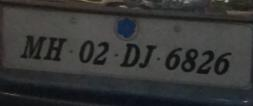0: (78, 36, 95, 65)
2: (197, 48, 216, 84), (92, 40, 111, 67)
6: (215, 49, 234, 76), (165, 43, 182, 71)
8: (182, 44, 198, 74)
D: (120, 41, 140, 70)
H: (45, 35, 65, 63)
J: (138, 43, 159, 69)
M: (19, 33, 46, 61)
